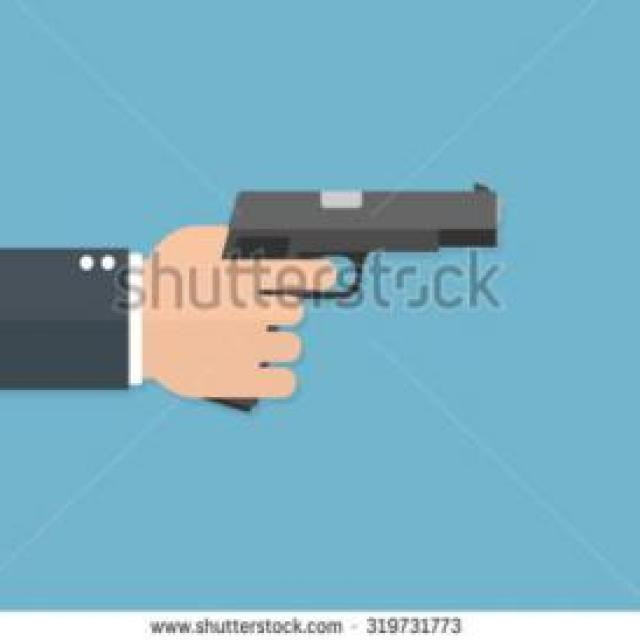pistol: (189, 175, 498, 416)
